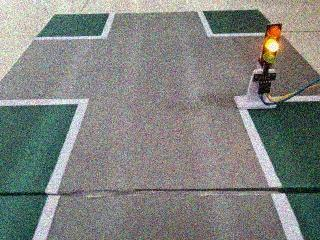yellow: (251, 18, 291, 72)
